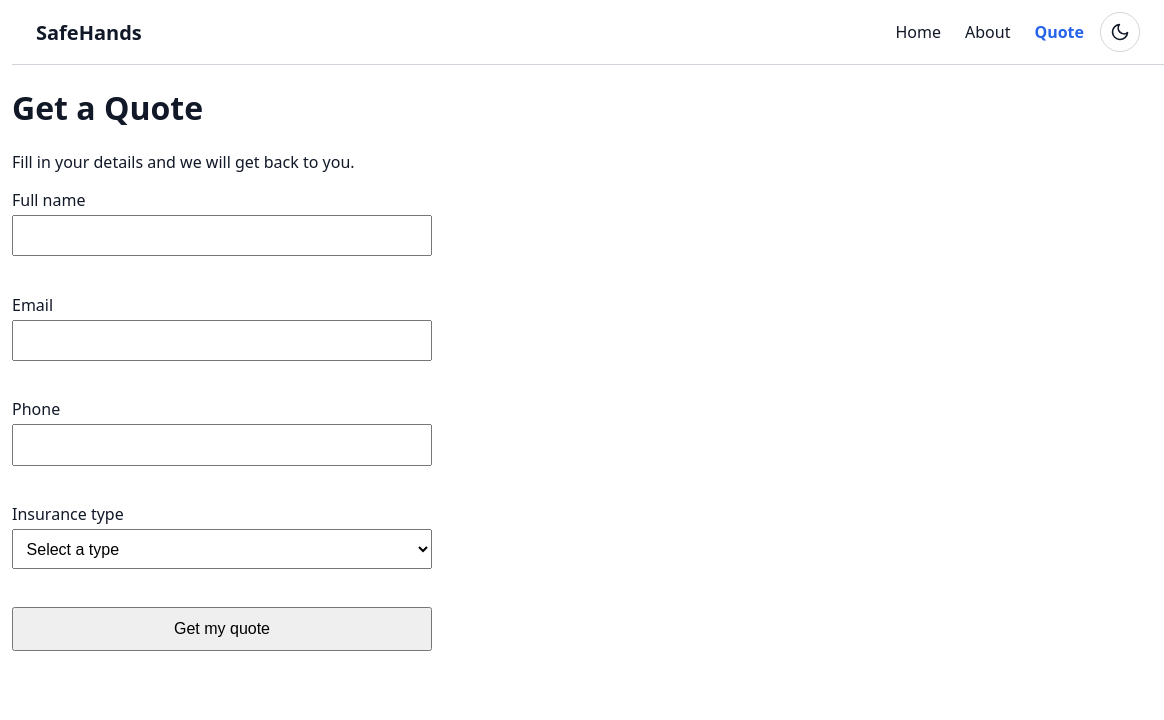
Test case: Quote flow › shows validation errors on an empty submit
The image size is (1164, 720).
Click the button "Get my quote" at (222, 629), box left=12, top=607, right=432, bottom=651
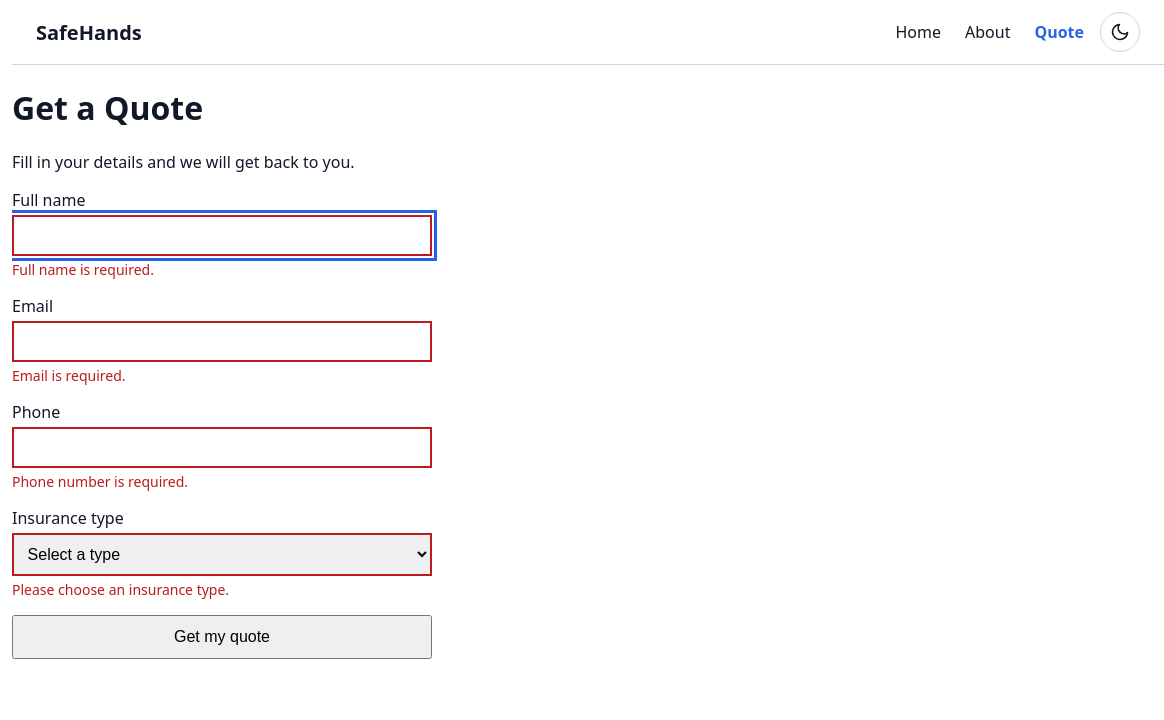
expect the text "Full name is required." is shown: met, box left=12, top=260, right=154, bottom=279
expect the text "Email is required." is shown: met, box left=12, top=366, right=126, bottom=385
